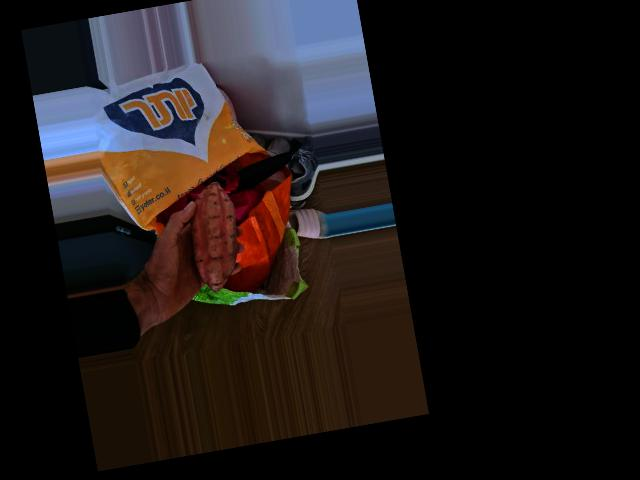sweet_potato: (179, 179, 247, 294)
